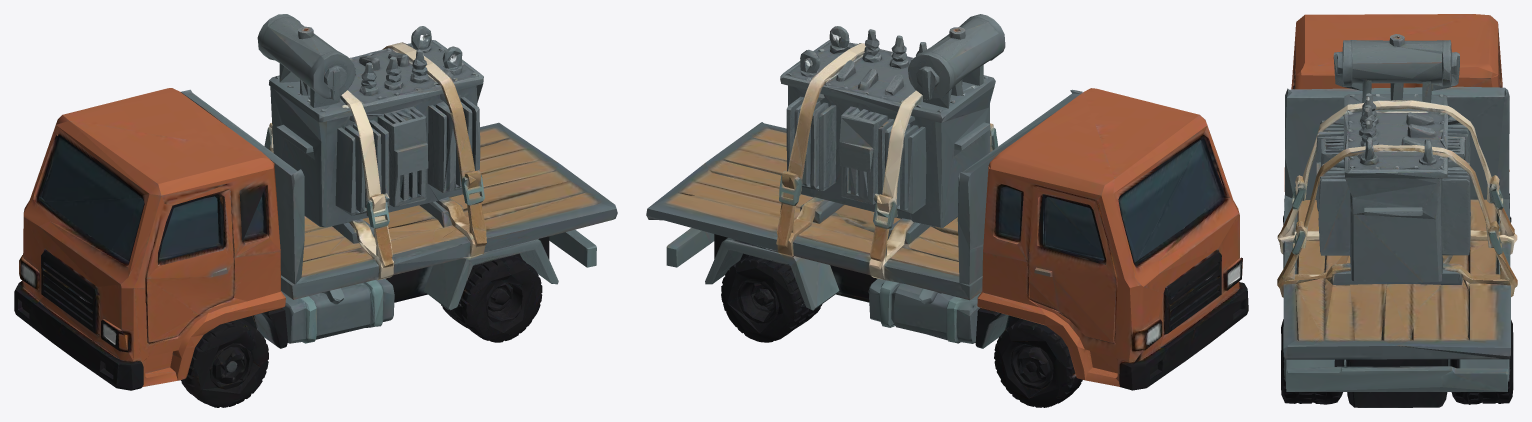
The model's file is flatbed.glb.
The picture shows the model from 3 angles, left to right: view 1: azimuth 30°, elevation 25°; view 2: azimuth 150°, elevation 25°; view 3: azimuth 270°, elevation 25°; orthographic projection. The views are drawn at different scales.
Size of the model in its own units: 1.9 by 1.12 by 0.8237.
1 material, 1 textured.
